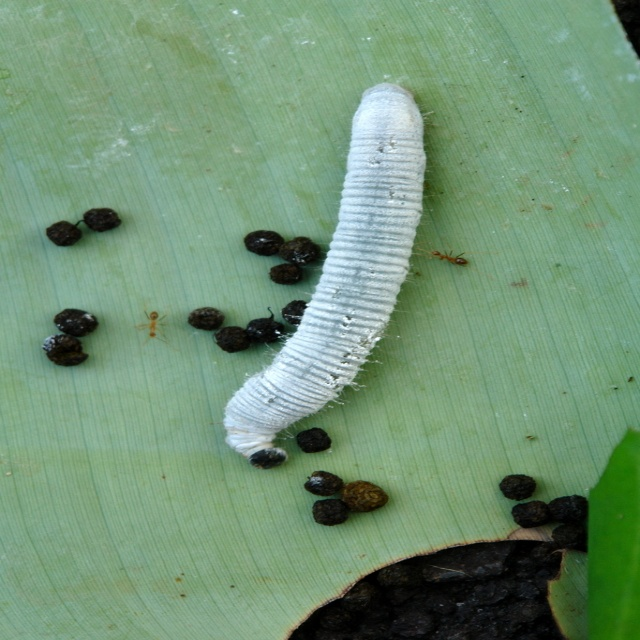Caterpillar: (204, 71, 477, 476)
